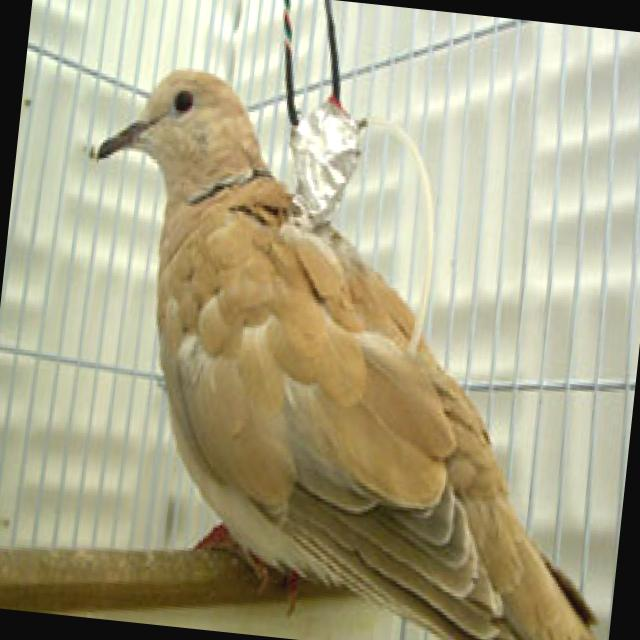bird: (42, 49, 640, 640)
